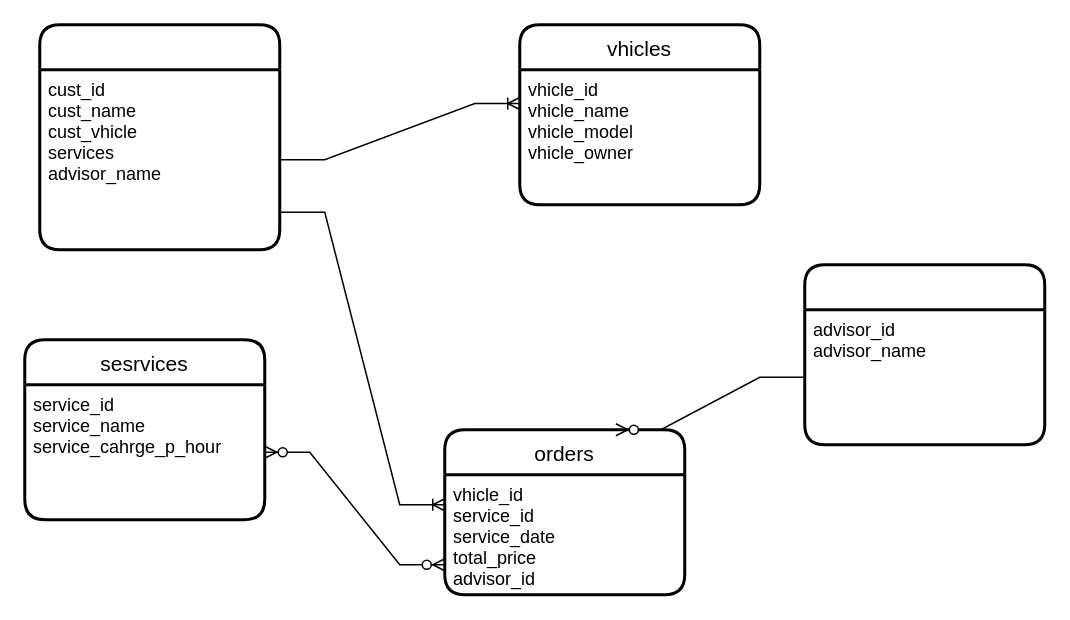
Some shapes in this 1070 by 620 pixel diagram are drawn without their labels. Here are the shapes that lost their labels. From the top down, the box of each, then its label:
(38, 22, 280, 250): customers
(802, 262, 1046, 446): advisors
